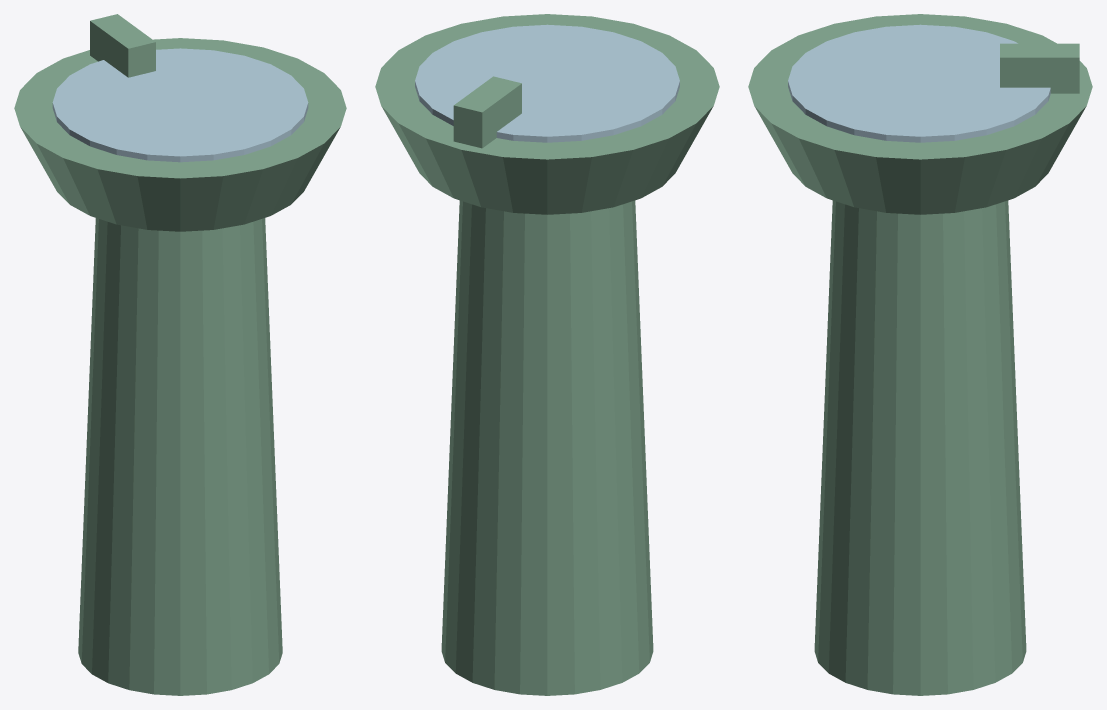
The model's file is drinking-water.glb.
The picture shows the model from 3 angles, left to right: view 1: azimuth 30°, elevation 25°; view 2: azimuth 150°, elevation 25°; view 3: azimuth 270°, elevation 25°; orthographic projection. The views are drawn at different scales.
Parts seen in each view (by area): view 1: drinking-water; view 2: drinking-water; view 3: drinking-water.
Boxes of the visible parts, <box> form: drinking-water: <box>14,14,346,695</box>; drinking-water: <box>375,14,719,695</box>; drinking-water: <box>748,14,1092,695</box>.
Bounding box in the file's own units: 0.52 × 1 × 0.52.
